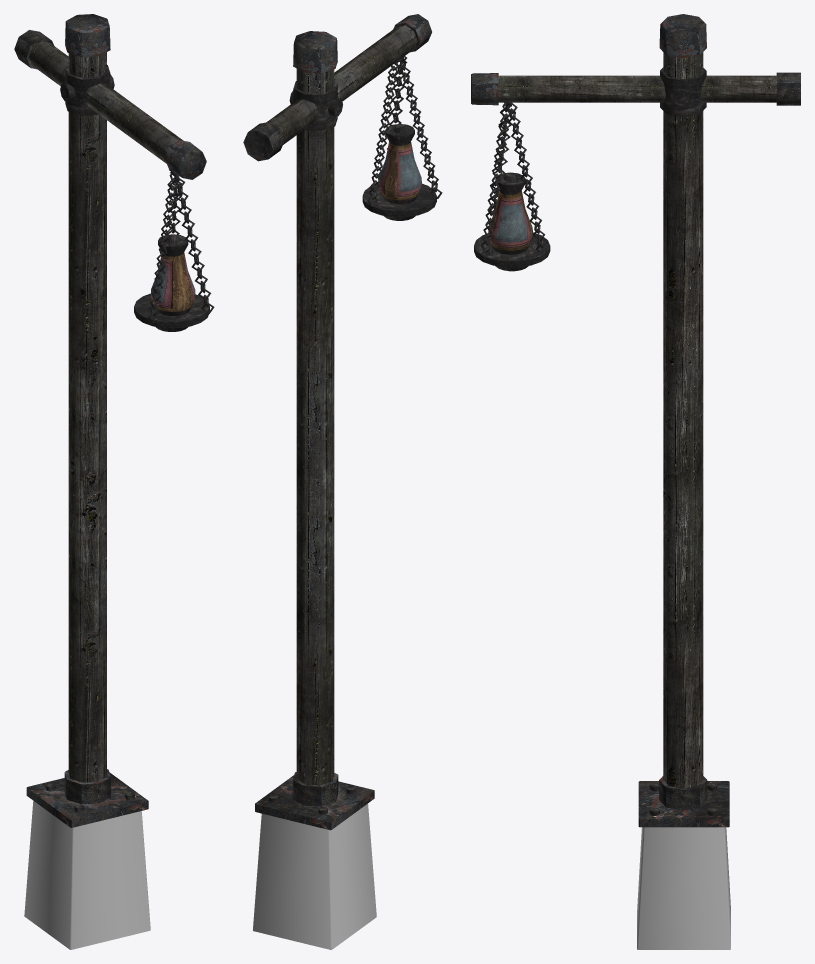
Rendered from Street_Lamp.fbx.
The picture shows the model from 3 angles, left to right: view 1: azimuth 30°, elevation 25°; view 2: azimuth 150°, elevation 25°; view 3: azimuth 270°, elevation 25°; orthographic projection. The views are drawn at different scales.
Parts seen in each view (by area): view 1: Street_Lamp; view 2: Street_Lamp; view 3: Street_Lamp.
Part boxes in pixels (<box>): Street_Lamp: <box>14,14,214,949</box>; Street_Lamp: <box>243,14,442,949</box>; Street_Lamp: <box>471,14,800,949</box>.
Bounding box in the file's own units: 31.08 × 331 × 109.
